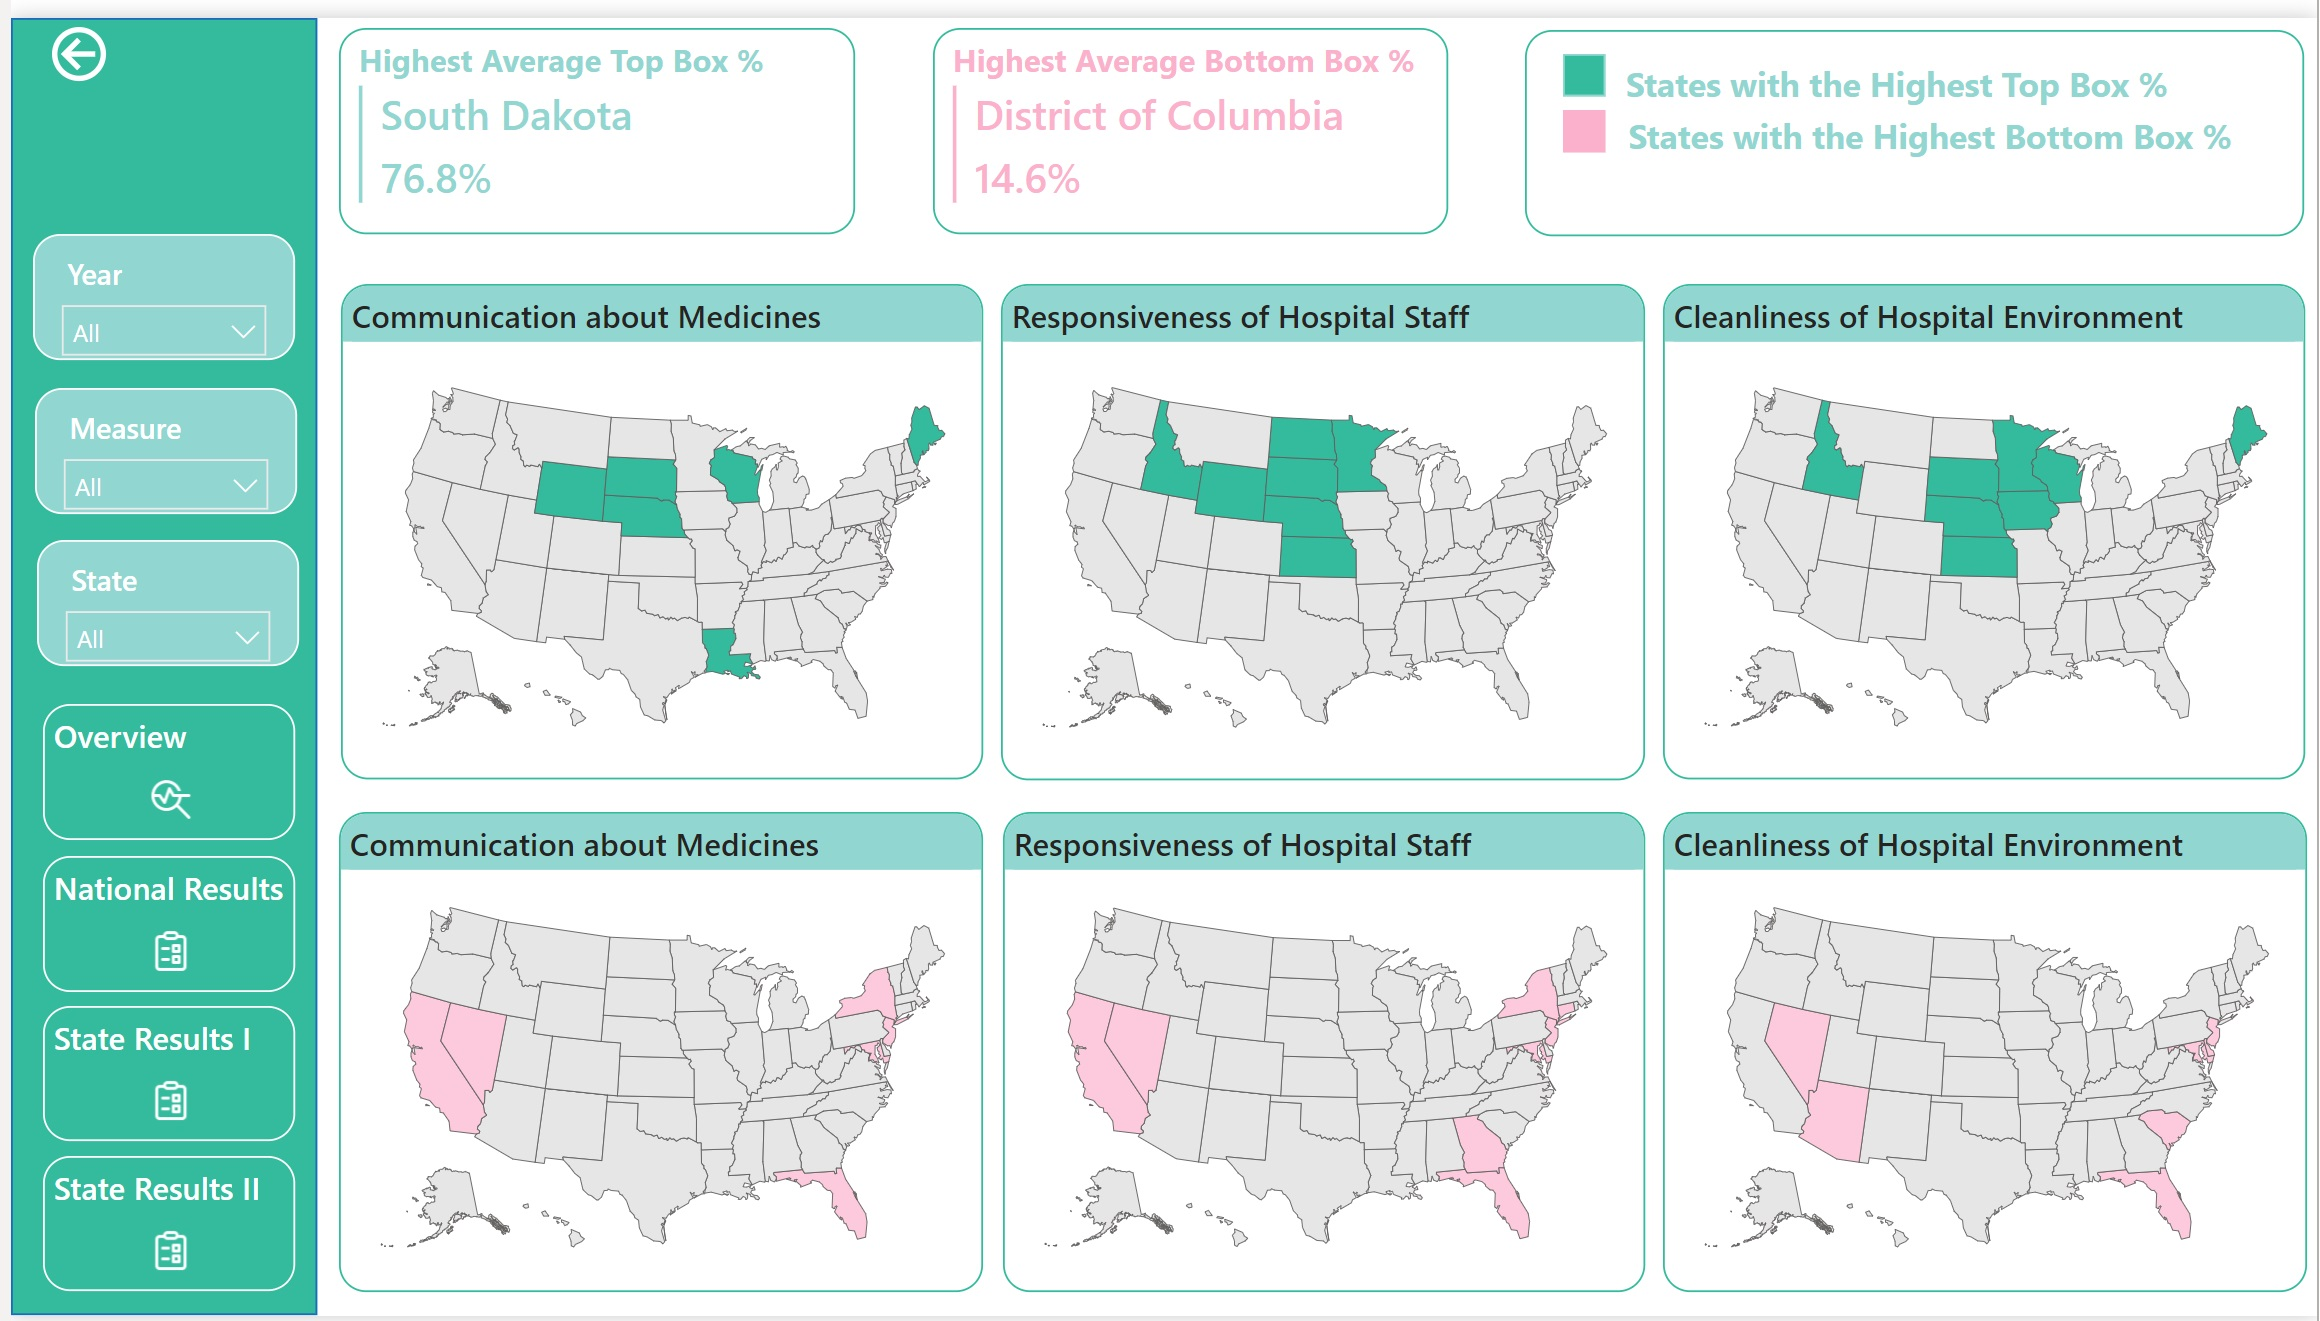

The dashboard page shown, as its layout file describes it:
{"tool":"powerbi","page":{"name":"State Results II","canvas":[1280,720],"ordinal":3},"visuals":[{"type":"shape","box":[0,0,170,720],"z":0},{"type":"slicer","fields":{"Values":["Reports.Year"]},"box":[12.2,119.9,145.4,70],"z":1000},{"type":"slicer","fields":{"Values":["States.State Name"]},"box":[14.4,289.7,145.4,70],"z":2000},{"type":"actionButton","title":"Overview","box":[17.8,380.8,140,75.5],"z":2000,"group":"g1"},{"type":"multiRowCard","title":"Highest Average Top Box %","fields":{"Values":["States.State Name","Measure Table.State Top Box %"]},"box":[182.1,5.6,286.4,114.3],"z":3000},{"type":"actionButton","title":"National Results","box":[17.8,465.2,140,75.5],"z":3000,"group":"g1"},{"type":"multiRowCard","title":"Highest Average Bottom Box  %","fields":{"Values":["States.State Name","Measure Table.State Bottom Box %"]},"box":[511.6,5.2,286,114.4],"z":4000},{"type":"actionButton","title":"State Results I","box":[17.8,548.4,140,75],"z":4000,"group":"g1"},{"type":"slicer","fields":{"Values":["Survey Measures.Measure"]},"box":[13.3,204.8,145.4,70],"z":5000},{"type":"actionButton","title":"State Results II","box":[17.8,631.7,140,75],"z":5000,"group":"g1"},{"type":"shapeMap","title":"Communication about Medicines ","fields":{"Category":["States.State Name"],"Value":["Measure Table.Communication about Medicines TB (State)"]},"box":[183.2,147.6,356.4,275],"z":6000},{"type":"shapeMap","title":"Responsiveness of Hospital Staff ","fields":{"Category":["States.State Name"],"Value":["Measure Table.Responsiveness of Hospital Staff TB (State)"]},"box":[549.5,147.6,357.5,275.3],"z":7000},{"type":"shapeMap","title":"Cleanliness of Hospital Environment ","fields":{"Category":["States.State Name"],"Value":["Measure Table.Cleanliness of Hospital Environment TB (State)"]},"box":[917,147.6,356.4,275],"z":8000},{"type":"shapeMap","title":"Communication about Medicines ","fields":{"Category":["States.State Name"],"Value":["Measure Table.Communication about Medicines BB (State)"]},"box":[182.1,440.7,357.5,266.4],"z":9000},{"type":"shapeMap","title":"Responsiveness of Hospital Staff ","fields":{"Category":["States.State Name"],"Value":["Measure Table.Responsiveness of Hospital Staff BB (State)"]},"box":[550.1,440.7,356.4,266.4],"z":10000},{"type":"shapeMap","title":"Cleanliness of Hospital Environment","fields":{"Category":["States.State Name"],"Value":["Measure Table.Cleanliness of Hospital Environment BB (State)"]},"box":[917.4,440.5,357.4,266.4],"z":11000},{"type":"textbox","box":[840.8,6.5,432.7,114.4],"z":12000},{"type":"shape","box":[861.6,19.5,23.4,23.4],"z":13000},{"type":"shape","box":[861.6,50.7,23.4,23.4],"z":14000},{"type":"group","id":"g1","title":"Group 1","box":[17.8,380.8,140,325.9],"z":15000},{"type":"actionButton","box":[17.8,0,47.7,40],"z":16000}]}

Visuals, with their boxes in screenshot pixels (x1, y1, x2, y2), scaled from the page's 1280x720 canvas onto the 2320x1321 screenshot:
shape: {"left": 0, "top": 0, "right": 308, "bottom": 1320}
slicer - Reports.Year: {"left": 22, "top": 220, "right": 286, "bottom": 348}
slicer - States.State Name: {"left": 26, "top": 532, "right": 290, "bottom": 660}
"Overview" actionButton: {"left": 32, "top": 699, "right": 286, "bottom": 837}
"Highest Average Top Box %" multiRowCard: {"left": 330, "top": 10, "right": 849, "bottom": 220}
"National Results" actionButton: {"left": 32, "top": 854, "right": 286, "bottom": 992}
"Highest Average Bottom Box  %" multiRowCard: {"left": 927, "top": 10, "right": 1446, "bottom": 219}
"State Results I" actionButton: {"left": 32, "top": 1006, "right": 286, "bottom": 1144}
slicer - Survey Measures.Measure: {"left": 24, "top": 376, "right": 288, "bottom": 504}
"State Results II" actionButton: {"left": 32, "top": 1159, "right": 286, "bottom": 1297}
"Communication about Medicines " shapeMap: {"left": 332, "top": 271, "right": 978, "bottom": 775}
"Responsiveness of Hospital Staff " shapeMap: {"left": 996, "top": 271, "right": 1644, "bottom": 776}
"Cleanliness of Hospital Environment " shapeMap: {"left": 1662, "top": 271, "right": 2308, "bottom": 775}
"Communication about Medicines " shapeMap: {"left": 330, "top": 809, "right": 978, "bottom": 1297}
"Responsiveness of Hospital Staff " shapeMap: {"left": 997, "top": 809, "right": 1643, "bottom": 1297}
"Cleanliness of Hospital Environment" shapeMap: {"left": 1663, "top": 808, "right": 2311, "bottom": 1297}
textbox: {"left": 1524, "top": 12, "right": 2308, "bottom": 222}
shape: {"left": 1562, "top": 36, "right": 1604, "bottom": 79}
shape: {"left": 1562, "top": 93, "right": 1604, "bottom": 136}
"Group 1" group: {"left": 32, "top": 699, "right": 286, "bottom": 1297}
actionButton: {"left": 32, "top": 0, "right": 119, "bottom": 73}
